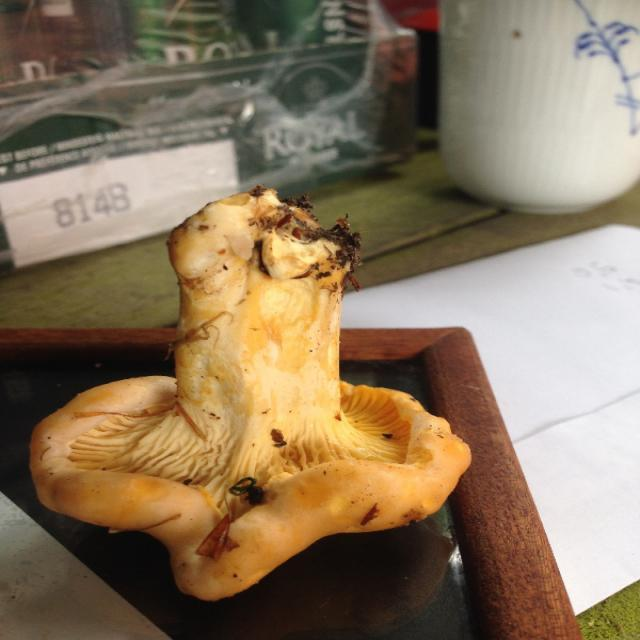Cantharellus cibarius: (33, 193, 472, 594)
